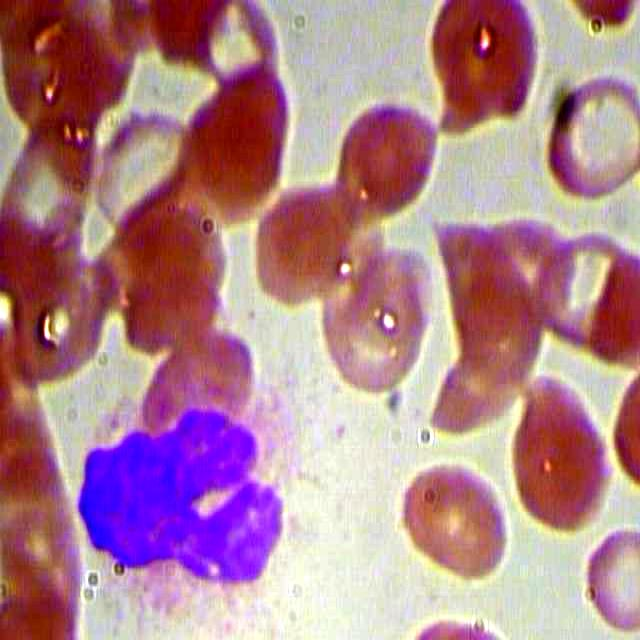RBC: (312, 235, 439, 402), (501, 371, 618, 541), (113, 204, 231, 361), (423, 2, 543, 154), (393, 445, 511, 583), (249, 178, 364, 306), (331, 101, 442, 224), (10, 262, 117, 389), (539, 71, 640, 205)
WBC: (57, 370, 345, 640)
